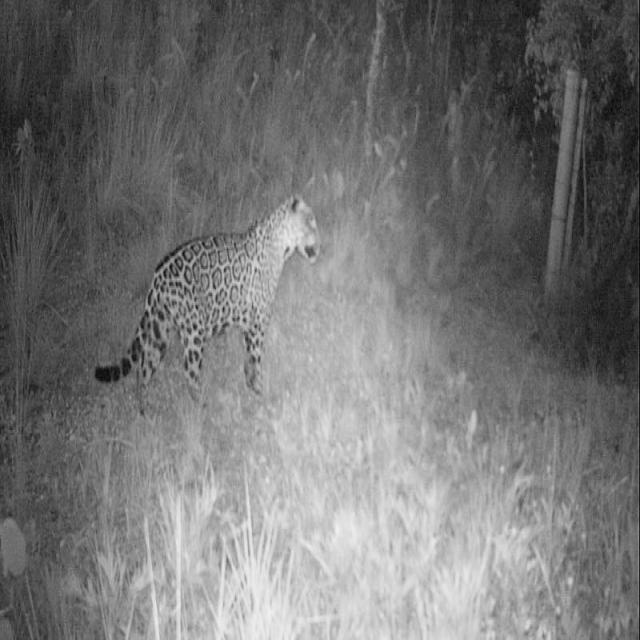Jaguar: (94, 194, 322, 413)
